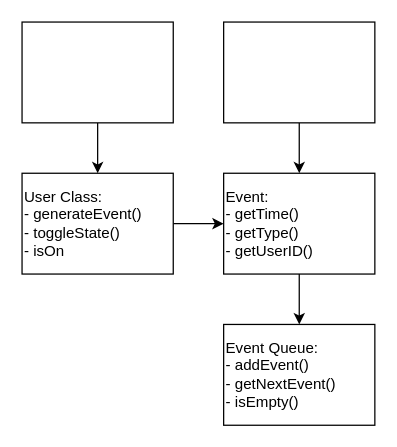
This 397x447 diagram has some shape labels left out. The centre of each missing label's shape, as x and y in pixels:
"Event Type (ENUM): - ON_period - OFF_period - SAMPLE_period" goes at [298,72].
"Heavytail: - calcEventTime()" goes at [97,72].
